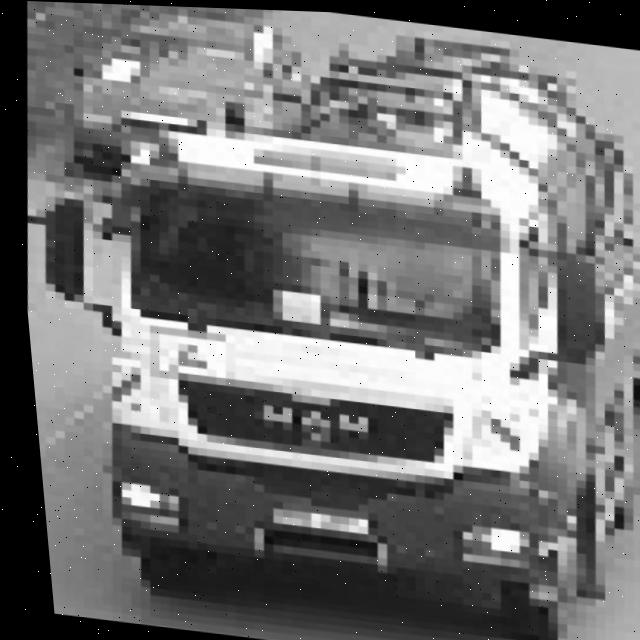truck: (11, 78, 626, 639)
